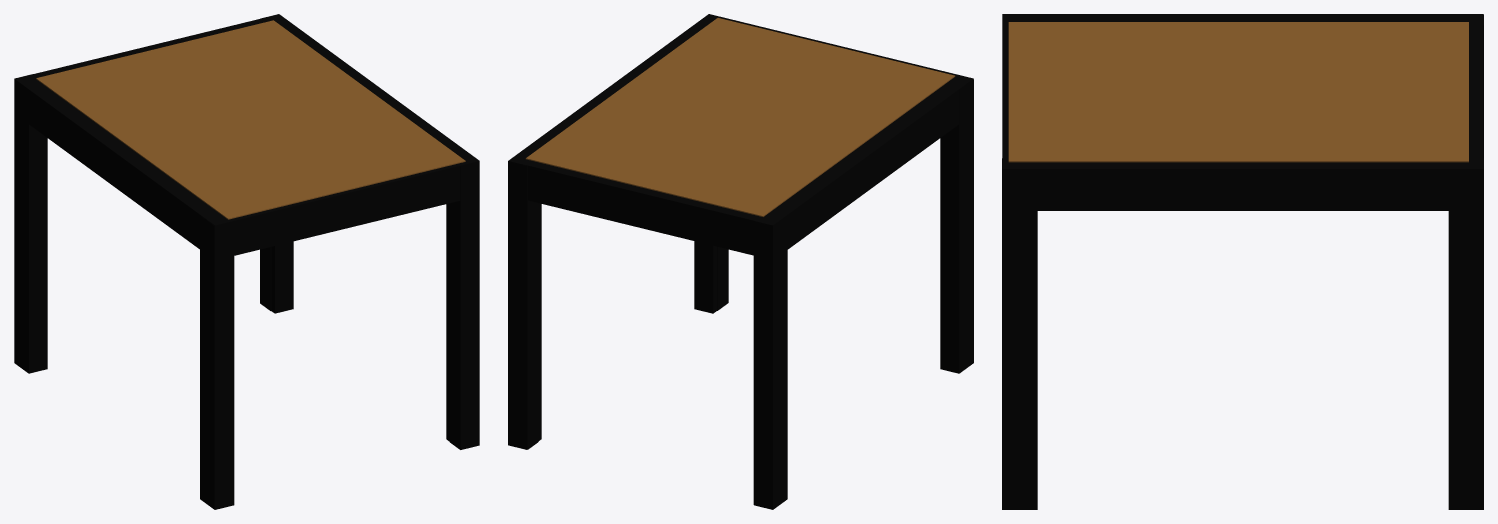
The model's file is kitchen table 2.glb.
3 renders of one model, left to right at view 1: azimuth 30°, elevation 25°; view 2: azimuth 150°, elevation 25°; view 3: azimuth 270°, elevation 25°, orthographic. The views are drawn at different scales.
Parts seen in each view (by area): view 1: kitchen table 2; view 2: kitchen table 2; view 3: kitchen table 2.
Part boxes in pixels (x1,y1,x2,y2): kitchen table 2: [14, 14, 479, 509]; kitchen table 2: [508, 14, 973, 509]; kitchen table 2: [1002, 14, 1483, 509].
Size of the model in its own units: 0.585 by 0.6019 by 0.768.
